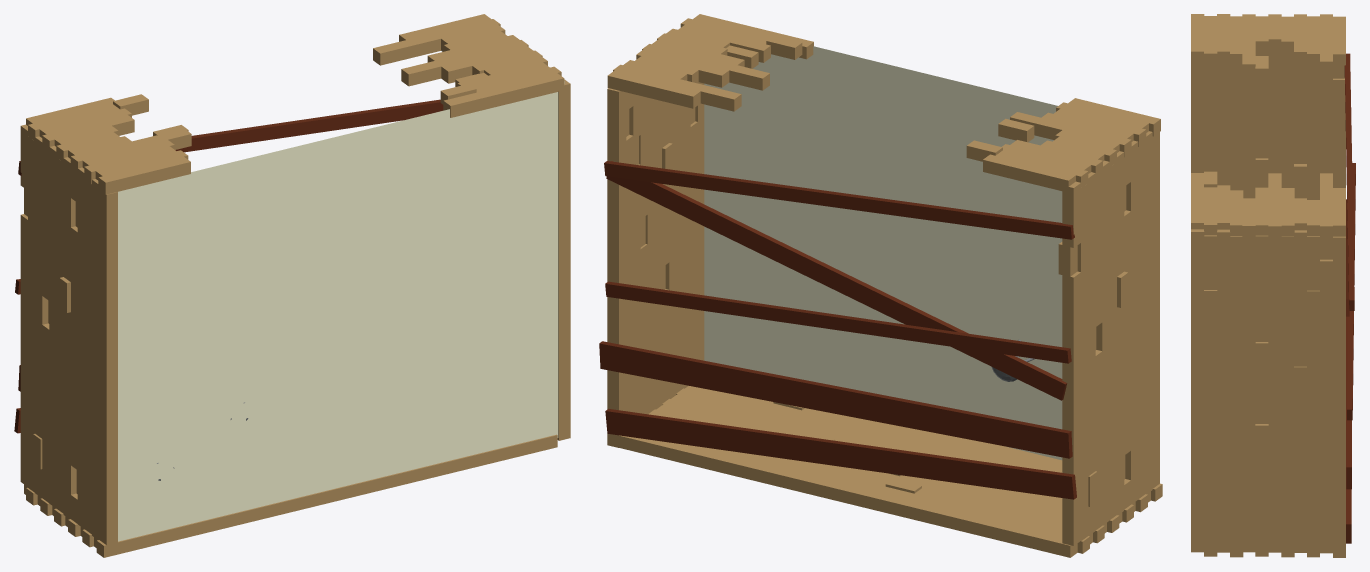
File: shanty_room.dae
The picture shows the model from 3 angles, left to right: view 1: azimuth 30°, elevation 25°; view 2: azimuth 150°, elevation 25°; view 3: azimuth 270°, elevation 25°; orthographic projection. The views are drawn at different scales.
Visible parts, largest first — view 1: Cube.277; view 2: Cube.277; view 3: Cube.277.
Boxes of the visible parts, bbox=[...] form: Cube.277: bbox=[14, 14, 570, 557]; Cube.277: bbox=[599, 14, 1162, 557]; Cube.277: bbox=[1191, 14, 1355, 557].
Bounding box in the file's own units: 10.59 × 3.54 × 8.09.
